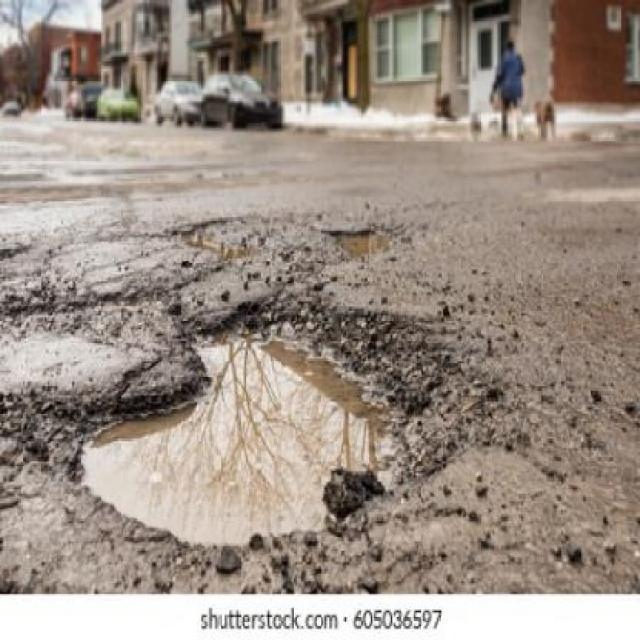Pothole: (54, 289, 527, 557)
